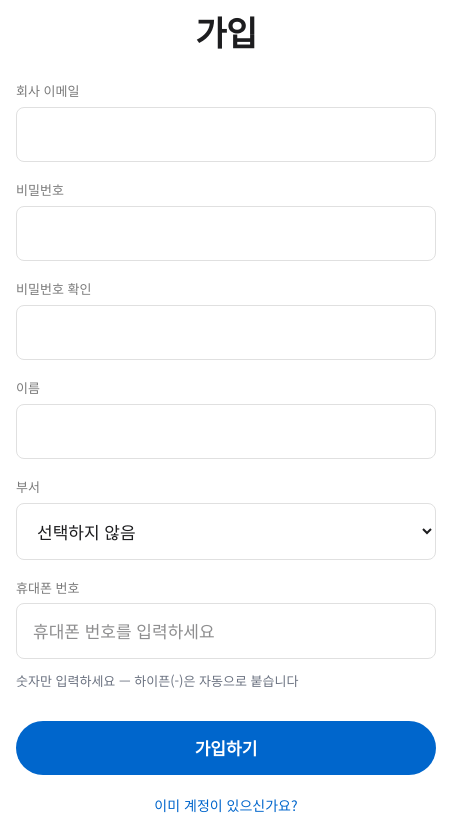
Test: 회원가입 › 가입에 성공하면 완료 안내를 보여준다
Type "a@gonjiam.com" into the field labelled "회사 이메일".
click(226, 134); type("a@gonjiam.com")  # box x1=16 y1=107 x2=436 y2=162
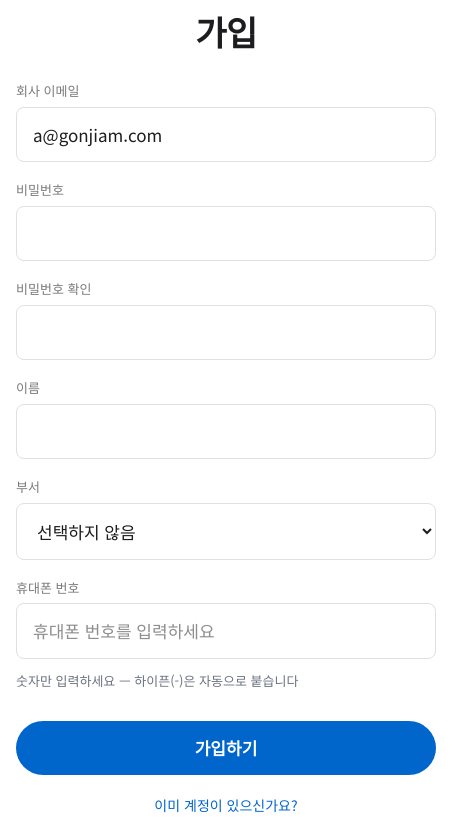
Type "password12345" into the password field labelled "비밀번호".
click(226, 233); type("password12345")  # box x1=16 y1=206 x2=436 y2=261
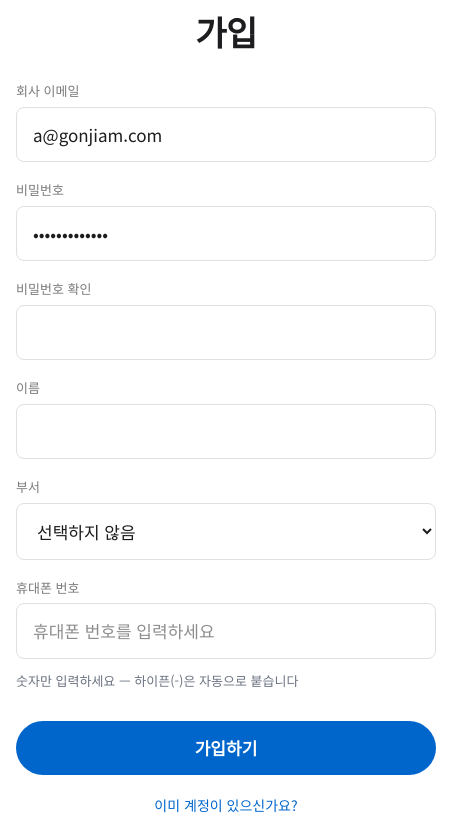
Type "password12345" into the password field labelled "비밀번호 확인".
click(226, 332); type("password12345")  # box x1=16 y1=305 x2=436 y2=360
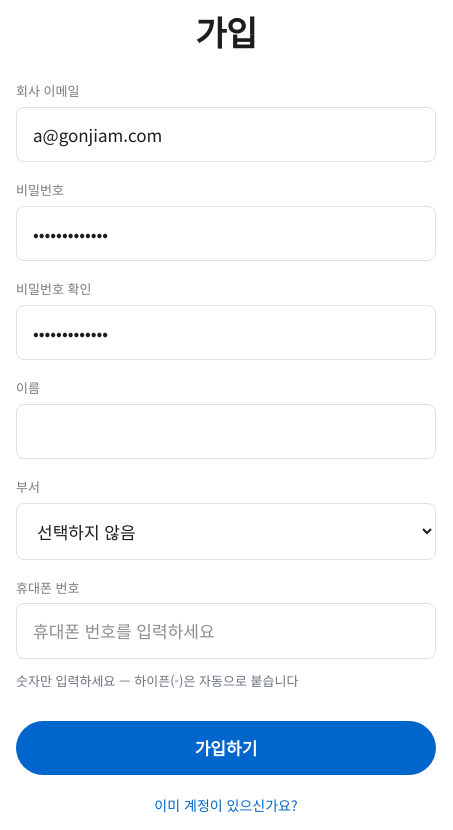
Type "홍길동" into the field labelled "이름".
click(226, 431); type("홍길동")  # box x1=16 y1=404 x2=436 y2=459
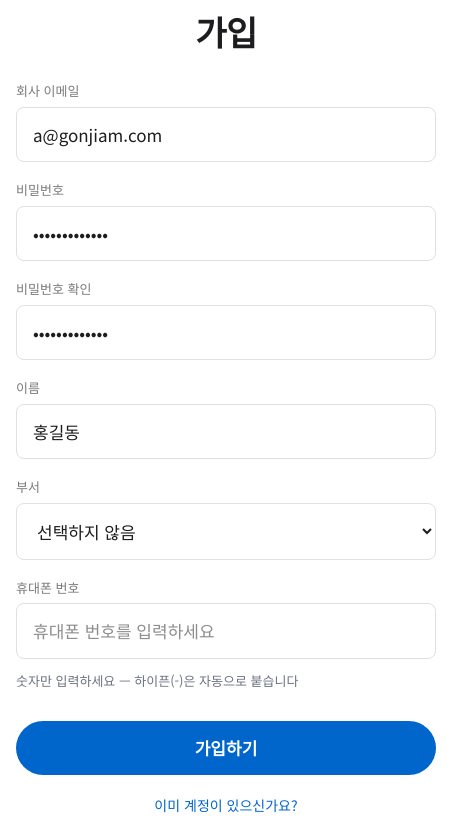
Click the button "가입하기".
click(226, 748)  # box x1=16 y1=721 x2=436 y2=775
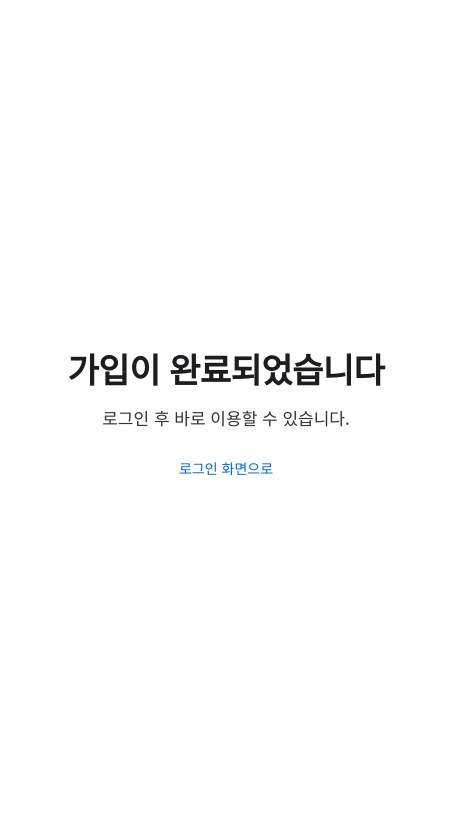
expect the heading "가입이 완료되었습니다" is shown: met, box x1=68 y1=343 x2=384 y2=394
